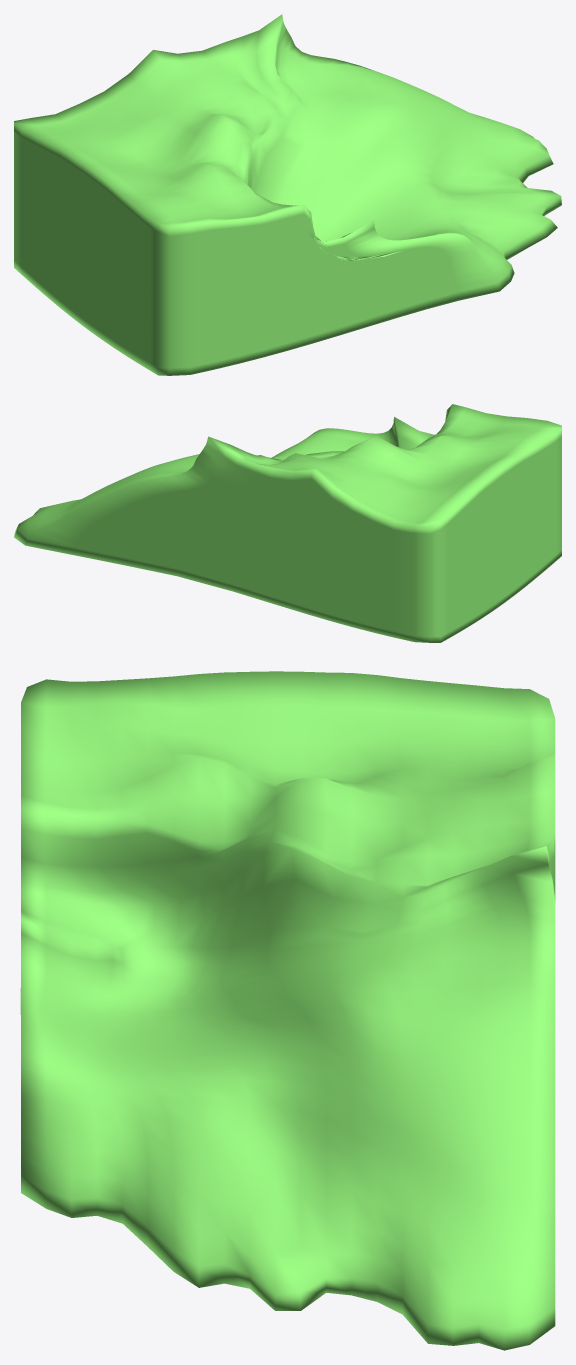
File: menta_medio.fbx
3 renders of one model, top to bottom at view 1: azimuth 30°, elevation 25°; view 2: azimuth 150°, elevation 25°; view 3: azimuth 270°, elevation 25°, orthographic. The views are drawn at different scales.
Parts seen in each view (by area): view 1: Menta_medio; view 2: Menta_medio; view 3: Menta_medio.
Boxes of the visible parts, x1=… form: Menta_medio: x1=14, y1=14, x2=561, y2=375; Menta_medio: x1=14, y1=404, x2=561, y2=642; Menta_medio: x1=20, y1=671, x2=555, y2=1350.
Size of the model in its own units: 353 by 126 by 189.
